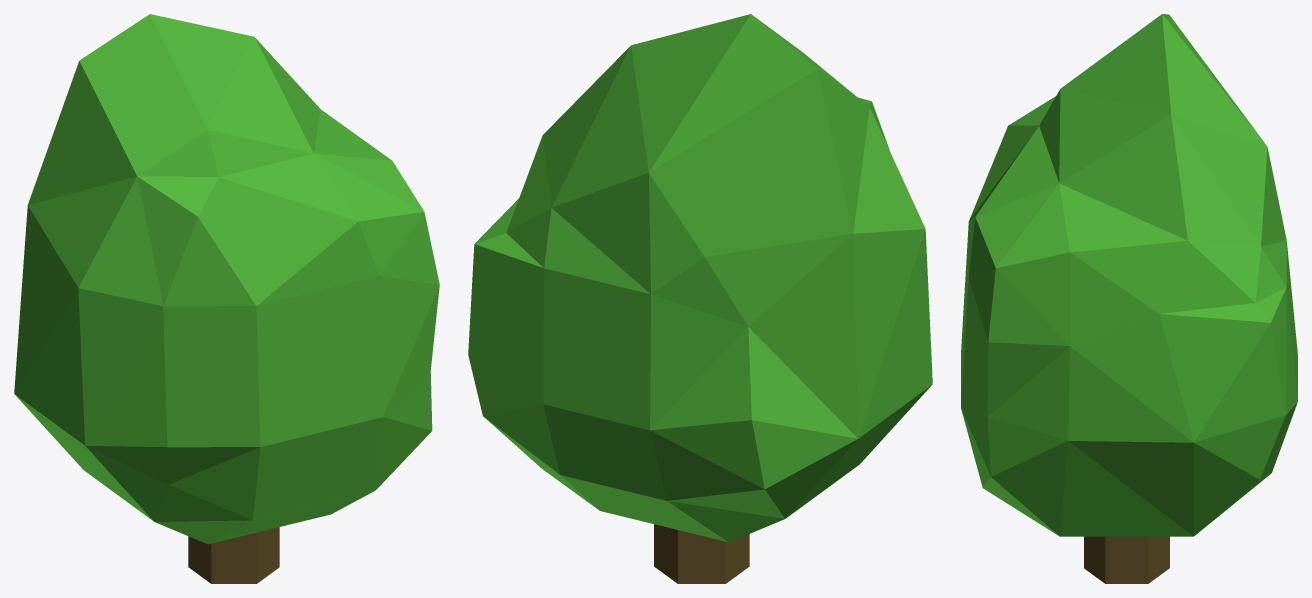
Rendered from Tree.obj.
3 views of the same model, side by side, from view 1: azimuth 30°, elevation 25°; view 2: azimuth 150°, elevation 25°; view 3: azimuth 270°, elevation 25° (orthographic). The views are drawn at different scales.
Visible parts, largest first — view 1: Tree; view 2: Tree; view 3: Tree.
Part boxes in pixels (bbox=[...]): Tree: bbox=[14, 14, 439, 583]; Tree: bbox=[468, 14, 932, 583]; Tree: bbox=[961, 14, 1297, 583].
Size of the model in its own units: 1.92 by 2.88 by 1.68.
